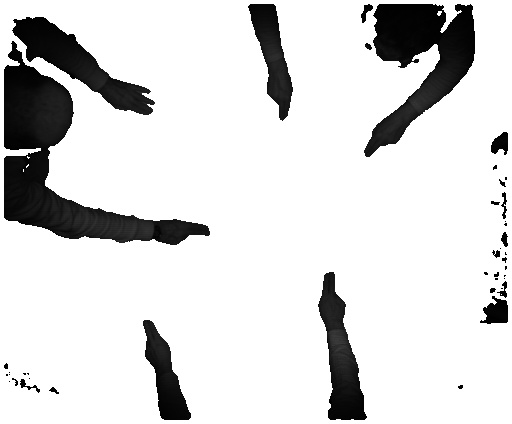hand: (136, 320, 183, 372), (360, 112, 410, 159), (312, 272, 350, 329), (104, 83, 159, 119), (158, 216, 215, 247), (267, 67, 295, 127)
